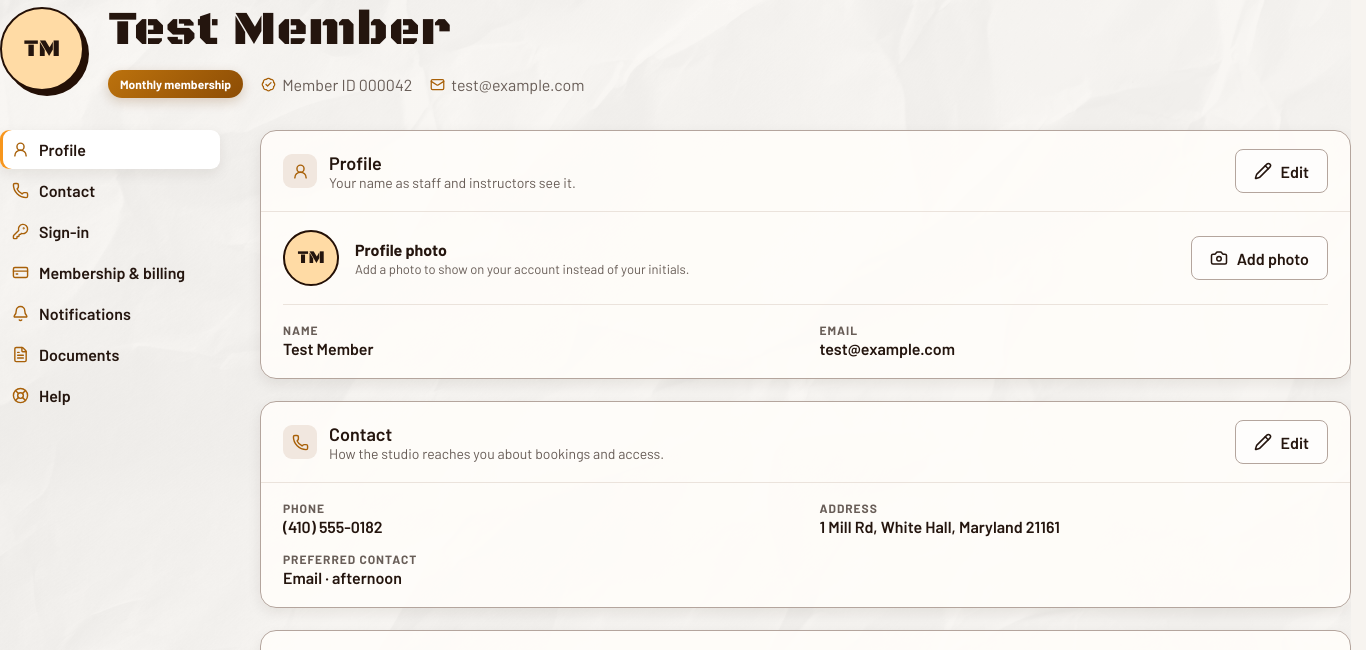
Test case: a failed section does not block a queued save or discard its own draft
Click the button with aria-label "Edit profile".
click(1281, 171)  # box x1=1234 y1=149 x2=1328 y2=193
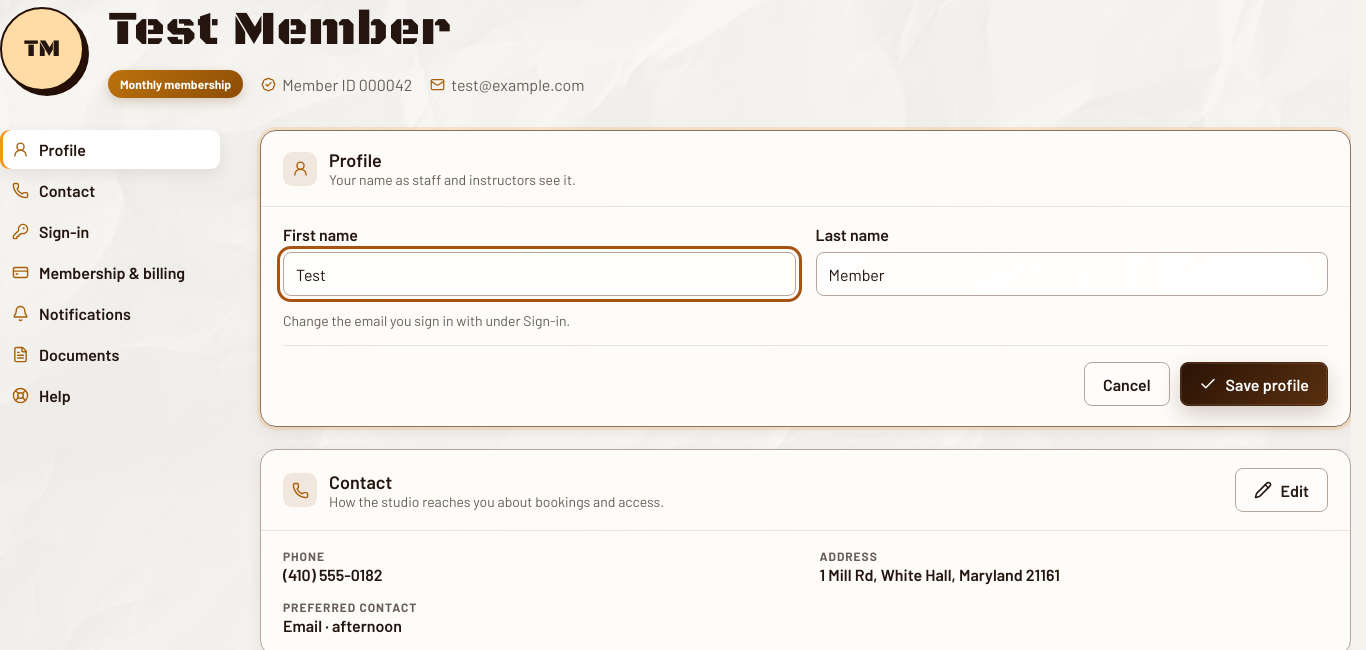
Click the button with aria-label "Edit contact".
click(1281, 490)  # box x1=1234 y1=468 x2=1328 y2=512
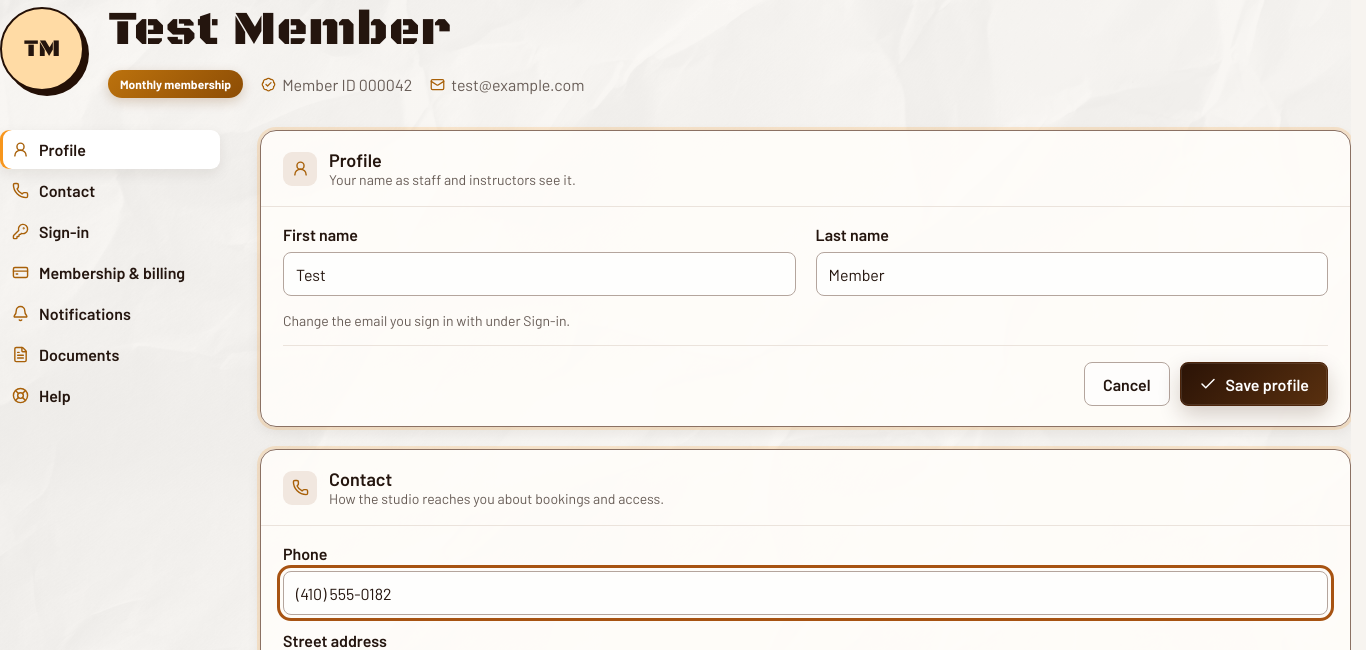
Replace the text in the field labelled "First name" with "Keep my draft" at {"x": 539, "y": 274}, box x1=283 y1=252 x2=796 y2=296
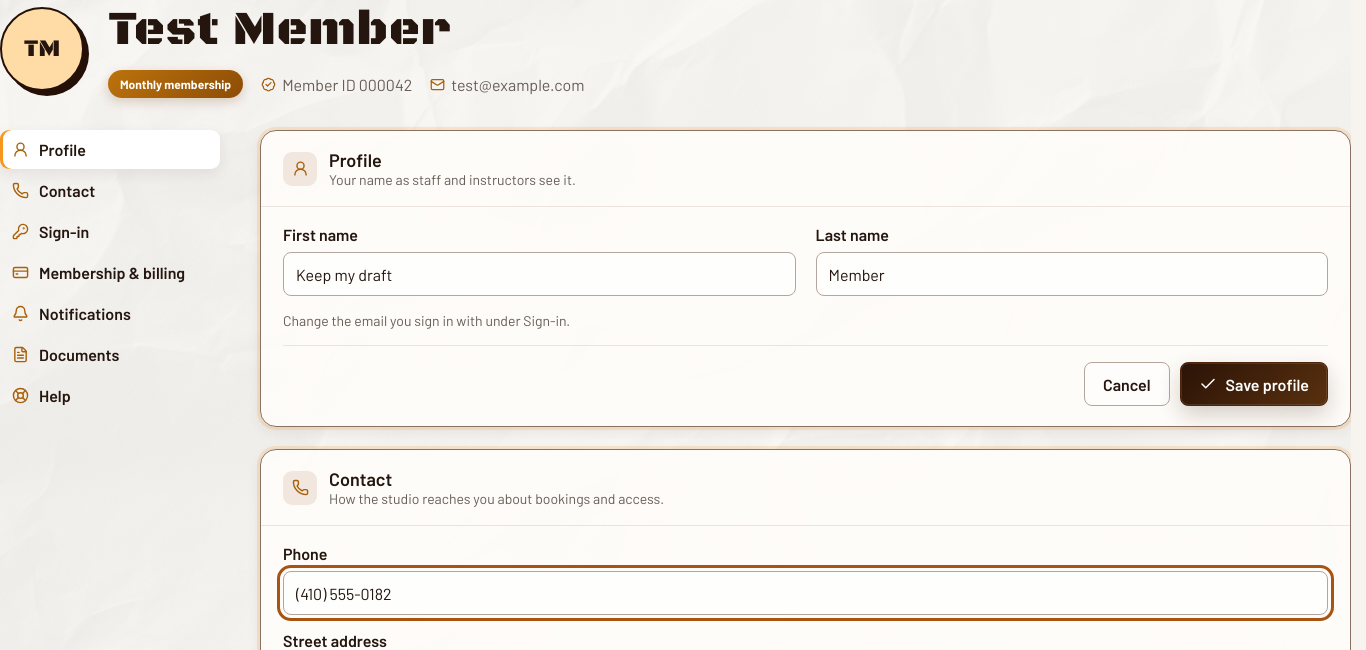
Click the button "Save profile".
click(1254, 384)  # box x1=1180 y1=362 x2=1328 y2=406
(page scrolled)
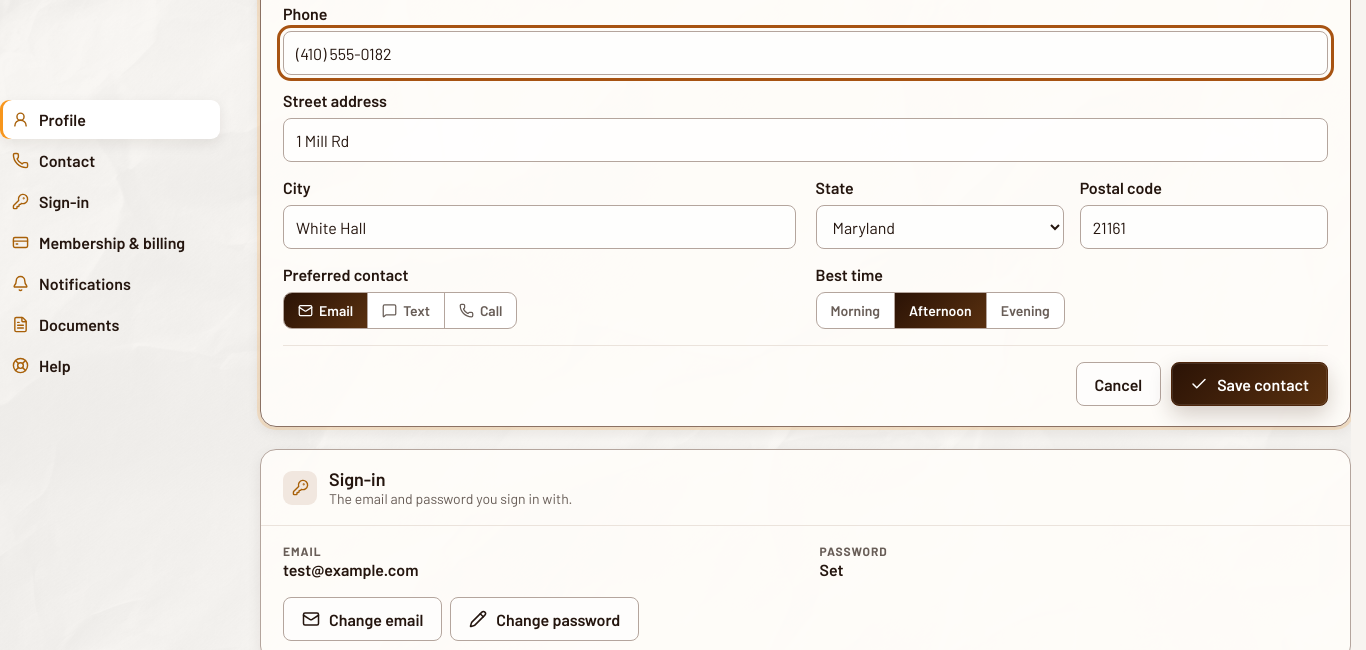
Click the button "Save contact".
click(1250, 384)  # box x1=1171 y1=362 x2=1328 y2=406
(page scrolled)
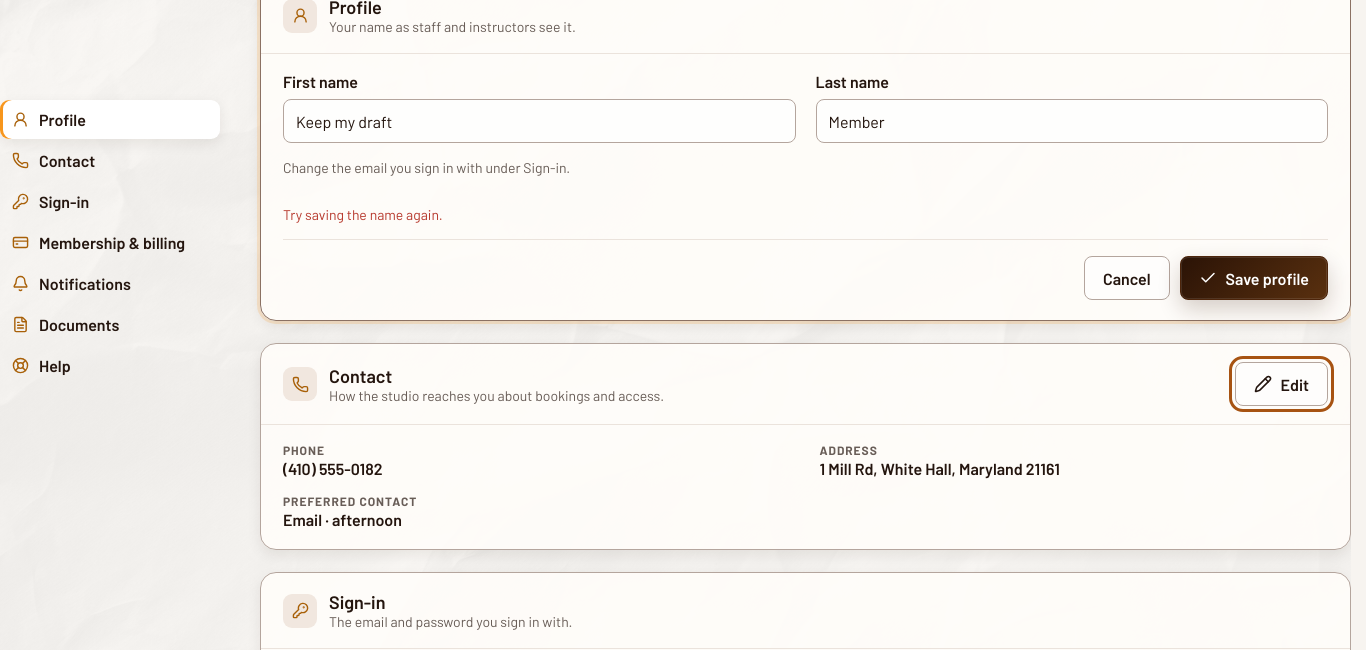
Expected: the message reads "Try saving the name again.", x1=283 y1=206 x2=443 y2=223
Expected: the button "Save contact" is gone
